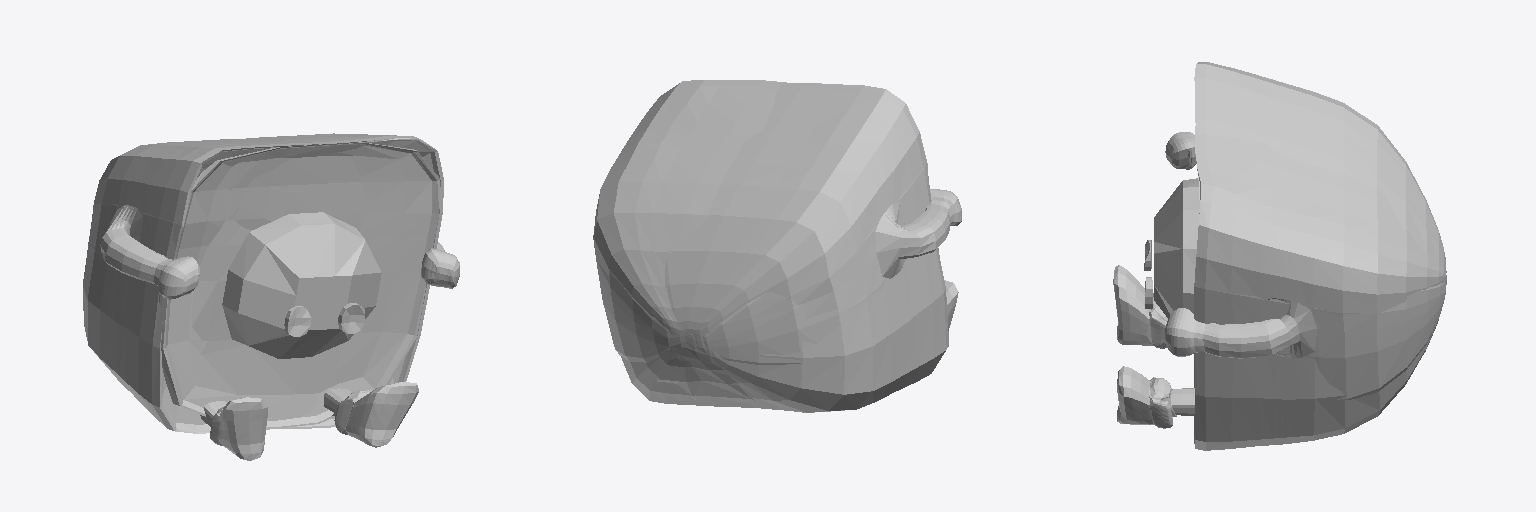
File: Pal_000003.obj
The picture shows the model from 3 angles: view 1: azimuth 30°, elevation 25°; view 2: azimuth 150°, elevation 25°; view 3: azimuth 270°, elevation 25°; orthographic projection.
Visible parts, largest first — view 1: Cuerpo_de_aguacate_3.001_Cube.002, Hueso_Cubo.003, Ojos_Cubo.002; view 2: Cuerpo_de_aguacate_3.001_Cube.002; view 3: Cuerpo_de_aguacate_3.001_Cube.002, Hueso_Cubo.003.
Boxes of the visible parts, x1=… form: Cuerpo_de_aguacate_3.001_Cube.002: x1=83, y1=133, x2=459, y2=460; Hueso_Cubo.003: x1=222, y1=212, x2=381, y2=358; Ojos_Cubo.002: x1=284, y1=303, x2=364, y2=336; Cuerpo_de_aguacate_3.001_Cube.002: x1=593, y1=80, x2=961, y2=412; Cuerpo_de_aguacate_3.001_Cube.002: x1=1113, y1=62, x2=1446, y2=450; Hueso_Cubo.003: x1=1154, y1=178, x2=1199, y2=317.
Bounding box in the file's own units: 1.11 × 1.03 × 1.01.